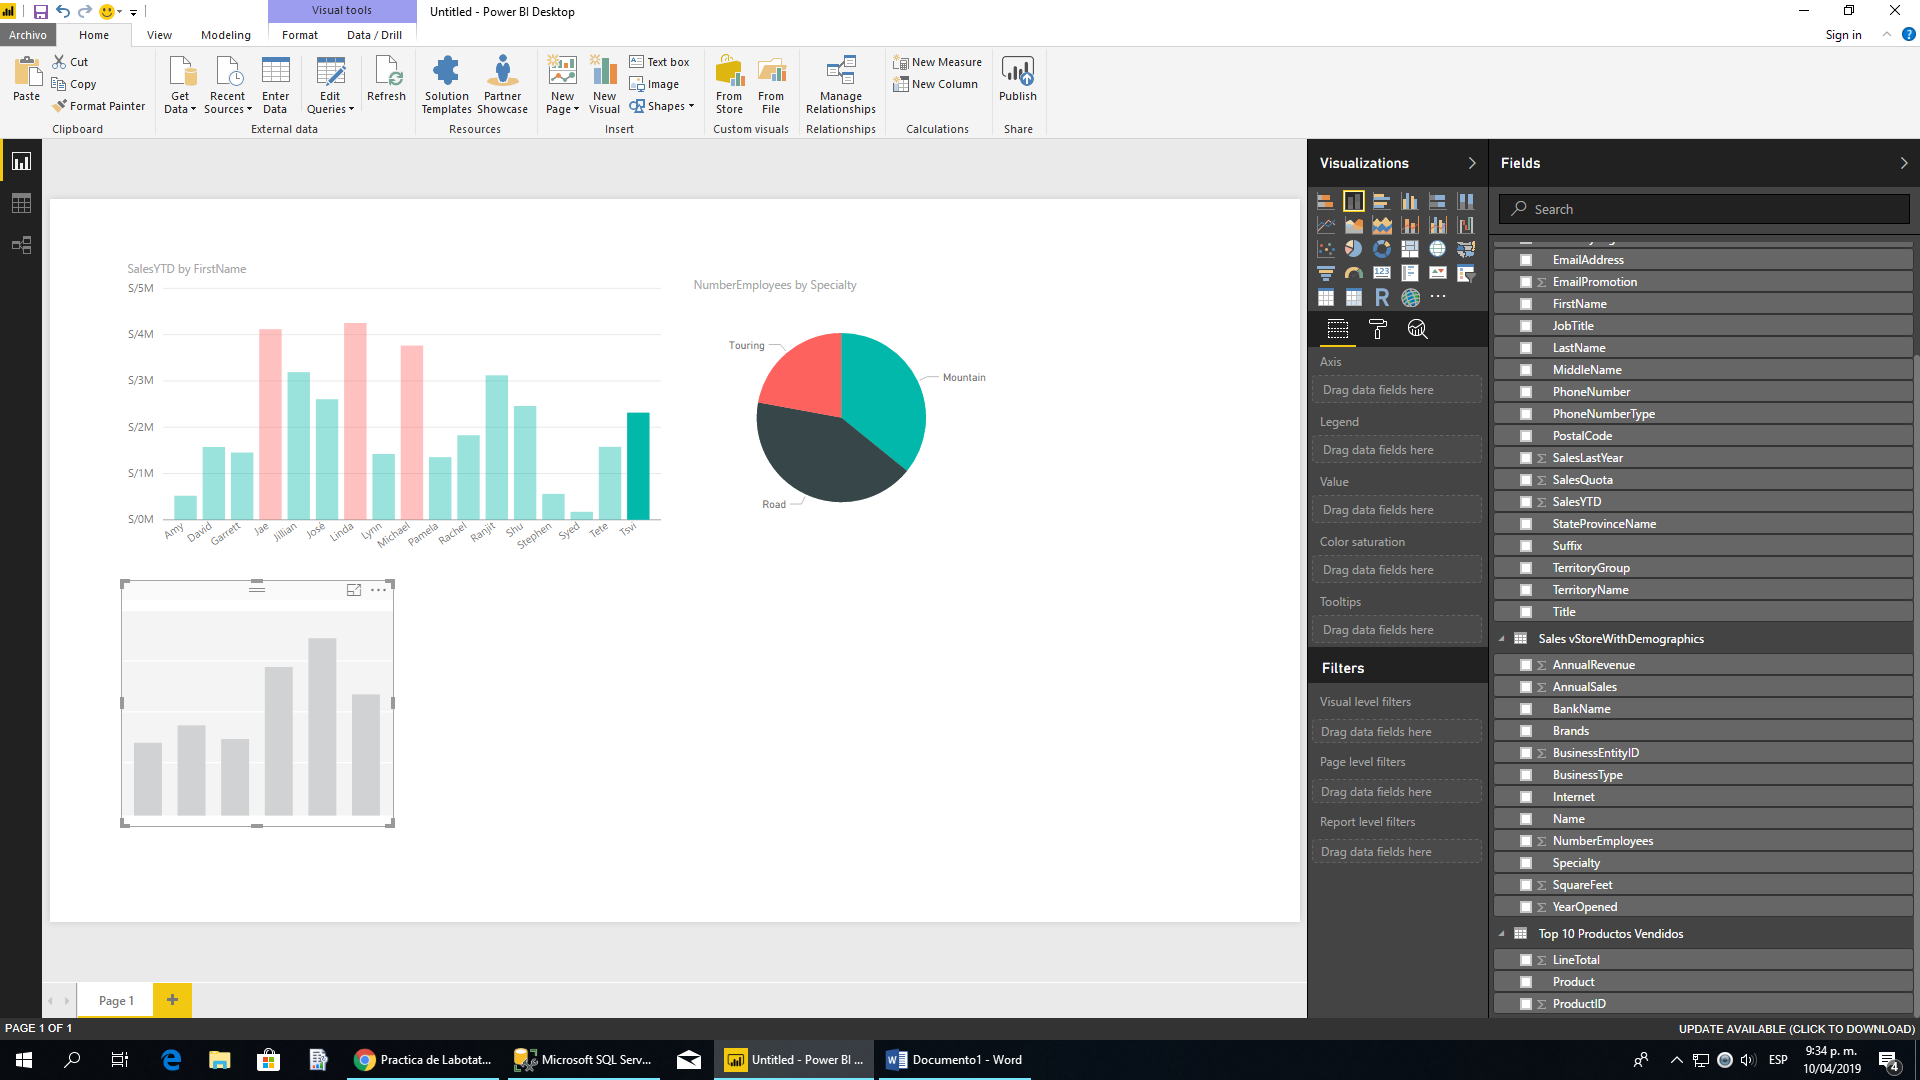

The dashboard page shown, as its layout file describes it:
{"tool":"powerbi","page":{"name":"Ventas","canvas":[1280,720],"ordinal":0},"visuals":[{"type":"columnChart","fields":{"Category":["Sales vSalesPerson.FirstName"],"Y":["Sum(Sales vSalesPerson.SalesYTD)"]},"box":[74.8,42,556,307.2],"z":1},{"type":"pieChart","fields":{"Category":["Sales vStoreWithDemographics.Specialty"],"Y":["Sum(Sales vStoreWithDemographics.NumberEmployees)"]},"box":[654.3,58.4,312.3,274.4],"z":2},{"type":"pieChart","fields":{"Category":["Top 10 Productos Vendidos.Product"],"Y":["Sum(Top 10 Productos Vendidos.LineTotal)"]},"box":[72.7,390.1,558.1,323.6],"z":3},{"type":"clusteredColumnChart","fields":{"Y":["Sum(Sales vStoreWithDemographics.AnnualRevenue)","Sum(Sales vStoreWithDemographics.AnnualSales)"]},"box":[673.8,398.3,335.9,303.1],"z":4}]}

Visuals, with their boxes on the page's 1280x720 design canvas (x1, y1, x2, y2). These are canvas units, not pixel positions in the 1920x1080 screenshot, which may show the page scaled, cropped or inside an application window:
columnChart - Sales vSalesPerson.FirstName x Sum(Sales vSalesPerson.SalesYTD): rect(75, 42, 631, 349)
pieChart - Sales vStoreWithDemographics.Specialty x Sum(Sales vStoreWithDemographics.NumberEmployees): rect(654, 58, 967, 333)
pieChart - Top 10 Productos Vendidos.Product x Sum(Top 10 Productos Vendidos.LineTotal): rect(73, 390, 631, 714)
clusteredColumnChart - Sum(Sales vStoreWithDemographics.AnnualRevenue) x Sum(Sales vStoreWithDemographics.AnnualSales): rect(674, 398, 1010, 701)
